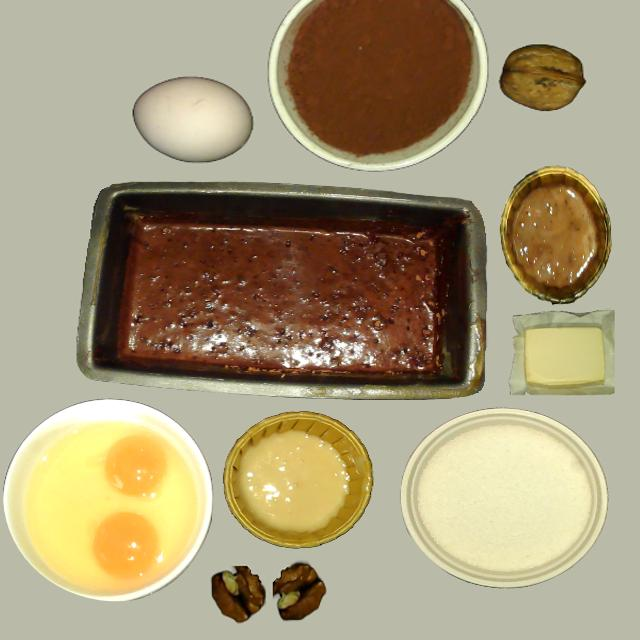Cocoa: (286, 2, 470, 157)
Egg: (92, 512, 160, 578), (104, 435, 168, 497)
Sugar: (415, 423, 590, 578)
Walnut: (499, 44, 584, 111)
